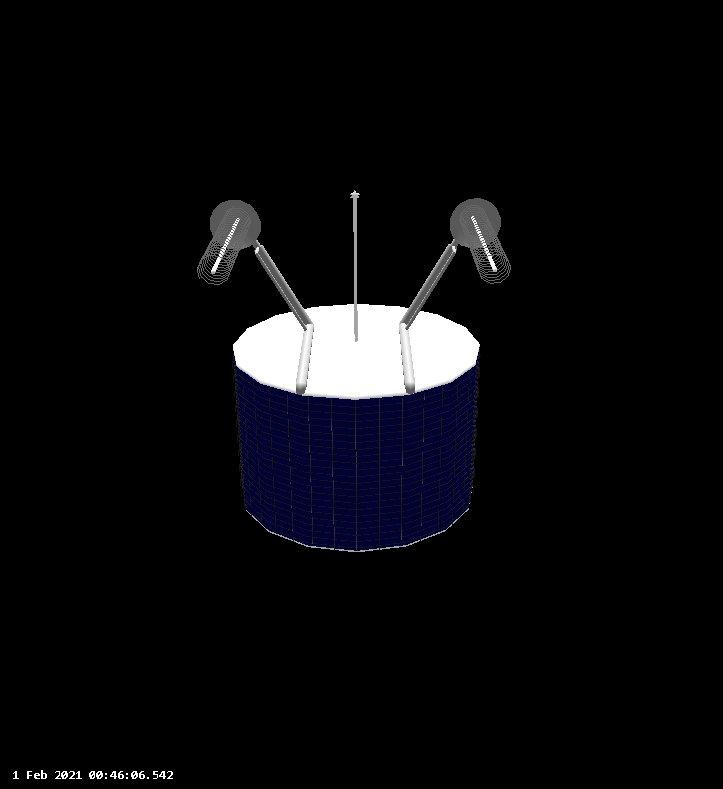antenna: (194, 195, 261, 291), (449, 194, 514, 288), (344, 185, 369, 348)
body: (229, 298, 487, 558)
solar: (235, 373, 480, 556)
